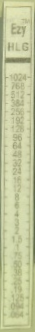number: (9, 73, 27, 82), (9, 294, 26, 303), (8, 303, 26, 311), (8, 311, 25, 319), (10, 91, 26, 99), (11, 125, 25, 134), (10, 99, 25, 107), (10, 108, 25, 116), (11, 116, 25, 124), (10, 260, 24, 268), (11, 269, 25, 277), (11, 150, 23, 159), (11, 285, 23, 294), (10, 82, 25, 89), (11, 277, 24, 285), (12, 141, 23, 150), (12, 159, 23, 168), (12, 184, 23, 193), (11, 134, 23, 142), (11, 252, 23, 260), (12, 167, 22, 176), (11, 235, 22, 243), (12, 176, 22, 184), (13, 193, 21, 202), (12, 226, 20, 235), (13, 218, 21, 226), (13, 209, 20, 218), (14, 201, 20, 210), (14, 244, 20, 251)
